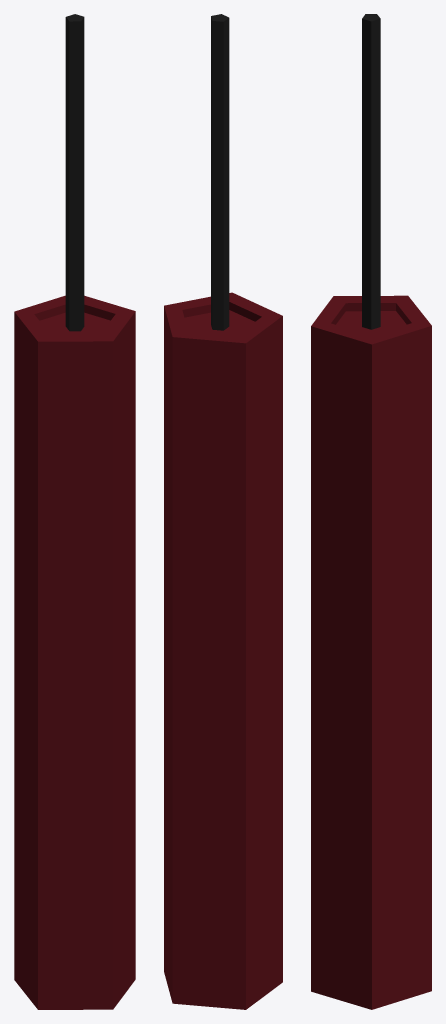
The model's file is ww_dynamite_a.glb.
The picture shows the model from 3 angles, left to right: view 1: azimuth 90°, elevation 25°; view 2: azimuth 150°, elevation 25°; view 3: azimuth 270°, elevation 25°; orthographic projection.
Parts seen in each view (by area): view 1: Dynamite_A; view 2: Dynamite_A; view 3: Dynamite_A.
Part boxes in pixels (left/top/right/bottom): Dynamite_A: left=14, top=14, right=135, bottom=1009; Dynamite_A: left=164, top=14, right=282, bottom=1009; Dynamite_A: left=311, top=14, right=431, bottom=1009.
Bounding box in the file's own units: 0.0522 × 0.4818 × 0.0547.
